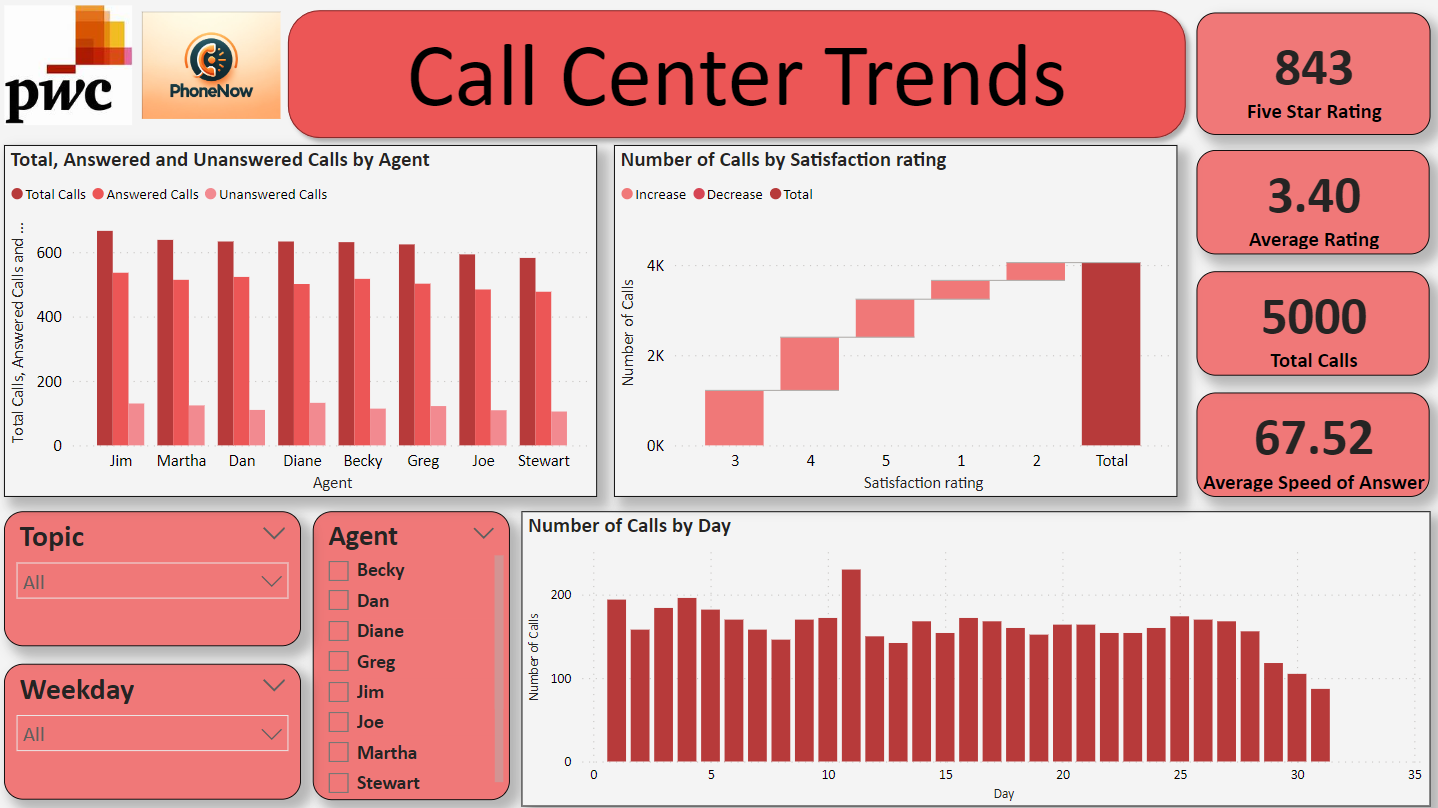

The dashboard page shown, as its layout file describes it:
{"tool":"powerbi","page":{"name":"Page 1","canvas":[1280,720],"ordinal":0},"visuals":[{"type":"card","fields":{"Values":["Call Center.Speed of answer in seconds"]},"box":[1064.3,349.2,207.5,92.6],"z":0},{"type":"card","fields":{"Values":["Call Center.Call Id"]},"box":[1064.3,241.2,207.5,92.6],"z":1000},{"type":"card","fields":{"Values":["Call Center.Five Star Rating Count"]},"box":[1064.3,11.2,208,109],"z":2000},{"type":"card","fields":{"Values":["Call Center.Satisfaction rating"]},"box":[1064.3,133.2,207.5,92.6],"z":3000},{"type":"shape","box":[248.2,0,816.1,131.8],"z":4000},{"type":"slicer","fields":{"Values":["Call Center.Agent"]},"box":[279.1,454.3,175.3,256.6],"z":5000},{"type":"image","box":[0,0,123.4,116.4],"z":6000},{"type":"image","box":[122,0,133.2,116.4],"z":7000},{"type":"slicer","fields":{"Values":["Call Center.Weekday"]},"box":[4.2,590.4,263.6,120.6],"z":8000},{"type":"slicer","fields":{"Values":["Call Center.Topic"]},"box":[4.2,454.3,263.6,120],"z":9000},{"type":"clusteredColumnChart","title":"Total, Answered and Unanswered Calls by Agent","fields":{"Category":["Call Center.Agent"],"Y":["Call Center.Call Id","Call Center.Answered Calls Count","Call Center.Unanswered Calls Count"]},"box":[4.2,129,527.3,312.7],"z":10000},{"type":"clusteredColumnChart","fields":{"Y":["Call Center.Call Id"],"Category":["Call Center.Date.Variation.Date Hierarchy.Day"]},"box":[464.2,454.3,807.7,262.2],"z":11000},{"type":"waterfallChart","fields":{"Category":["Call Center.Satisfaction rating"],"Y":["Call Center.Call Id"]},"box":[546.9,129,500.6,312.7],"z":12000}]}

Visuals, with their boxes in screenshot pixels (x1, y1, x2, y2), scaled from the page's 1280x720 canvas onto the 1438x808 screenshot:
card - Call Center.Speed of answer in seconds: (1196,392,1429,496)
card - Call Center.Call Id: (1196,271,1429,375)
card - Call Center.Five Star Rating Count: (1196,13,1429,135)
card - Call Center.Satisfaction rating: (1196,149,1429,253)
shape: (279,0,1196,148)
slicer - Call Center.Agent: (314,510,510,798)
image: (0,0,139,131)
image: (137,0,287,131)
slicer - Call Center.Weekday: (5,663,301,798)
slicer - Call Center.Topic: (5,510,301,644)
"Total, Answered and Unanswered Calls by Agent" clusteredColumnChart: (5,145,597,496)
clusteredColumnChart - Call Center.Call Id x Call Center.Date.Variation.Date Hierarchy.Day: (521,510,1429,804)
waterfallChart - Call Center.Satisfaction rating x Call Center.Call Id: (614,145,1177,496)
